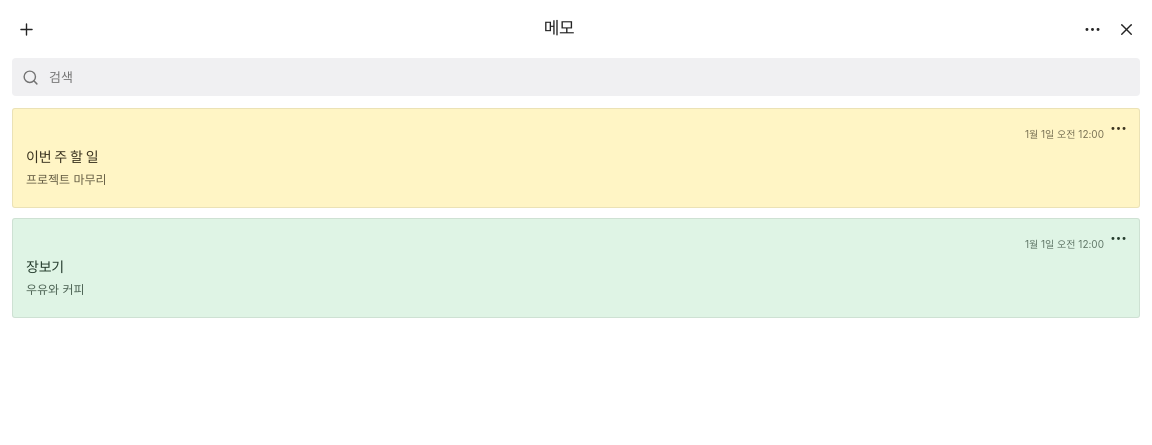
Test: NotesList › creating a note updates the list from the storage event
The width and height of the screenshot is (1152, 445).
Expected: the heading "이번 주 할 일" is shown, [26, 148, 98, 165]
Click the button named "새 메모" at {"x": 26, "y": 29}, box [10, 13, 42, 45]
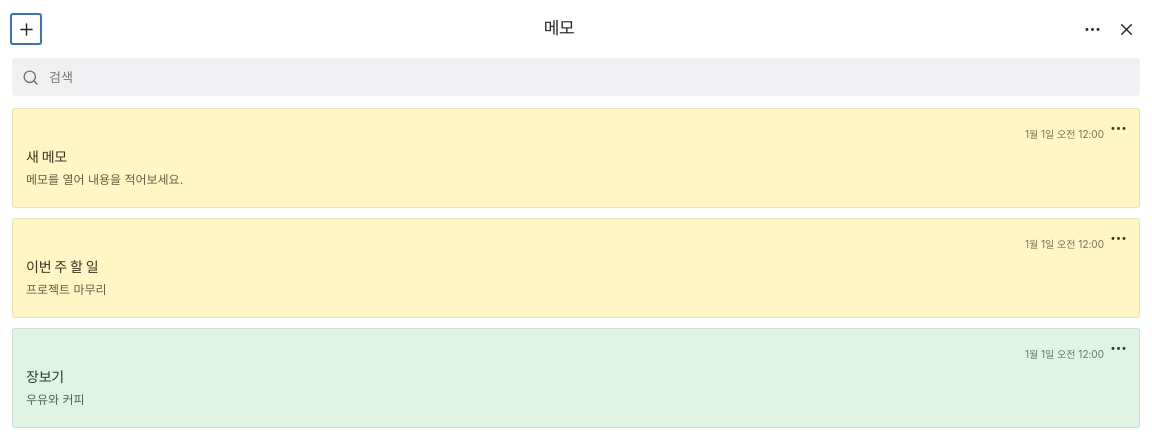
Now the heading "새 메모" is shown, box [26, 148, 67, 165]
